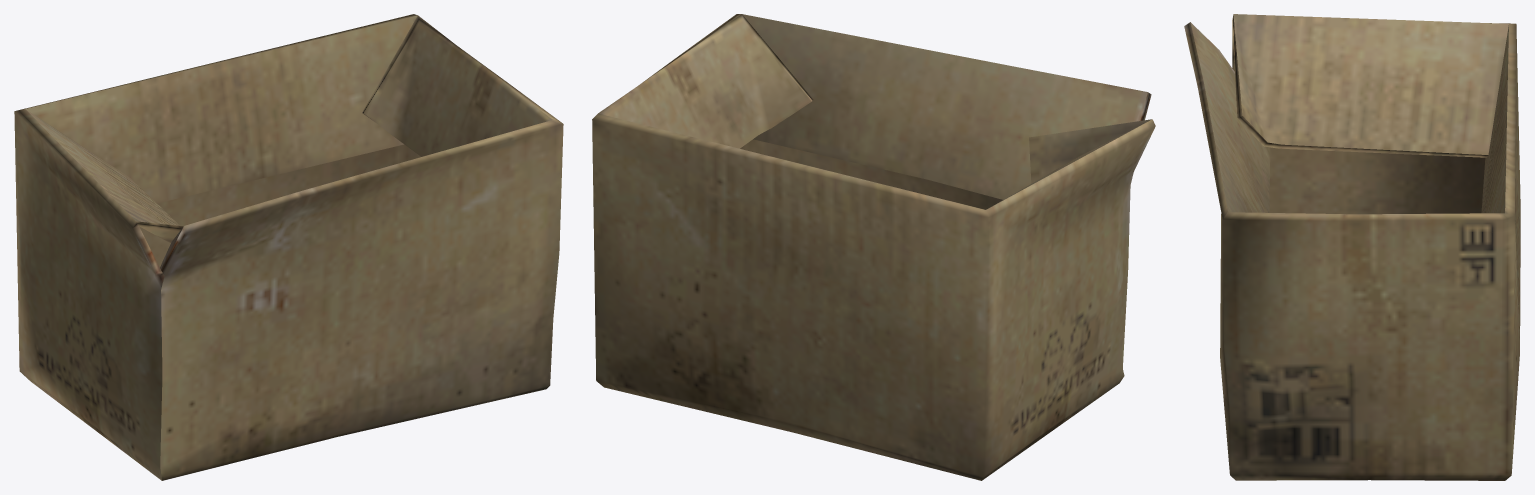
The model's file is sm36_002_cardboard01a.fbx.
3 renders of one model, left to right at view 1: azimuth 30°, elevation 25°; view 2: azimuth 150°, elevation 25°; view 3: azimuth 270°, elevation 25°, orthographic.
Parts seen in each view (by area): view 1: LOD_1_Group_0_Sub_1__sm36_002_Cardboard01A_A_Mat; view 2: LOD_1_Group_0_Sub_1__sm36_002_Cardboard01A_A_Mat; view 3: LOD_1_Group_0_Sub_1__sm36_002_Cardboard01A_A_Mat.
Part boxes in pixels (x1,y1,x2,y2): LOD_1_Group_0_Sub_1__sm36_002_Cardboard01A_A_Mat: [14, 14, 563, 480]; LOD_1_Group_0_Sub_1__sm36_002_Cardboard01A_A_Mat: [592, 14, 1155, 480]; LOD_1_Group_0_Sub_1__sm36_002_Cardboard01A_A_Mat: [1184, 14, 1520, 480].
Size of the model in its own units: 0.7568 by 0.4592 by 0.515.
